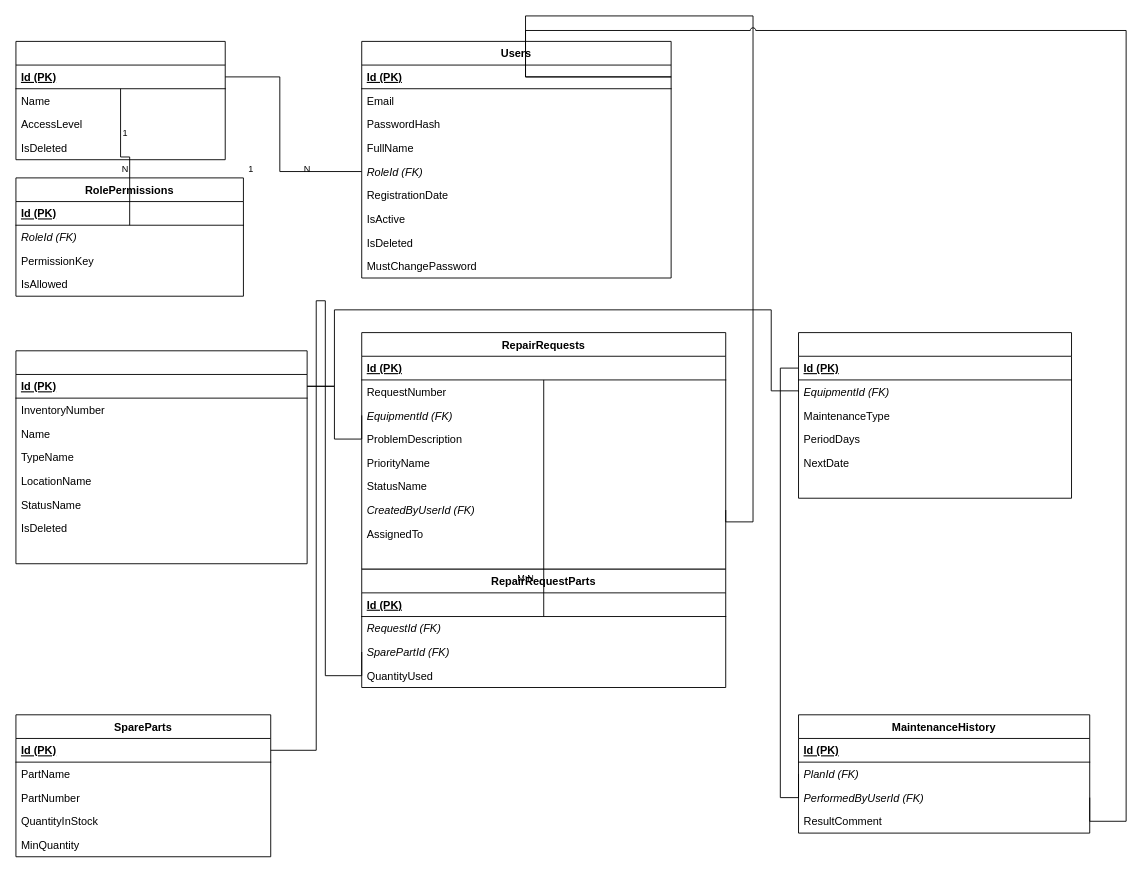
This 1143x875 diagram has some shape labels left out. The box of each missing label's shape, as (x1, y1, x2, y2) in pixels:
Equipment: (15, 350, 307, 564)
MaintenancePlans: (798, 332, 1072, 498)
Roles: (15, 40, 225, 160)
